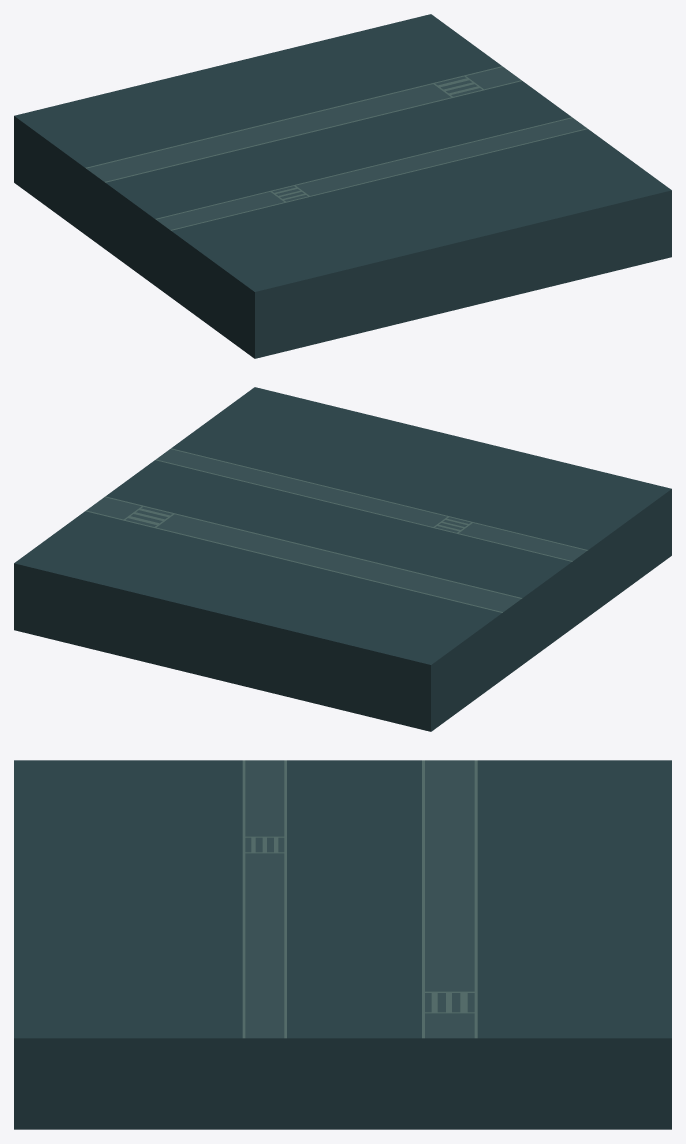
Rendered from Road.fbx.
3 renders of one model, top to bottom at view 1: azimuth 30°, elevation 25°; view 2: azimuth 150°, elevation 25°; view 3: azimuth 270°, elevation 25°, orthographic. The views are drawn at different scales.
Visible parts, largest first — view 1: Cube; view 2: Cube; view 3: Cube.
Part boxes in pixels (bbox=[...]): Cube: bbox=[14, 14, 671, 358]; Cube: bbox=[14, 387, 671, 731]; Cube: bbox=[14, 760, 671, 1129].
Size of the model in its own units: 3000 by 459 by 3000.
